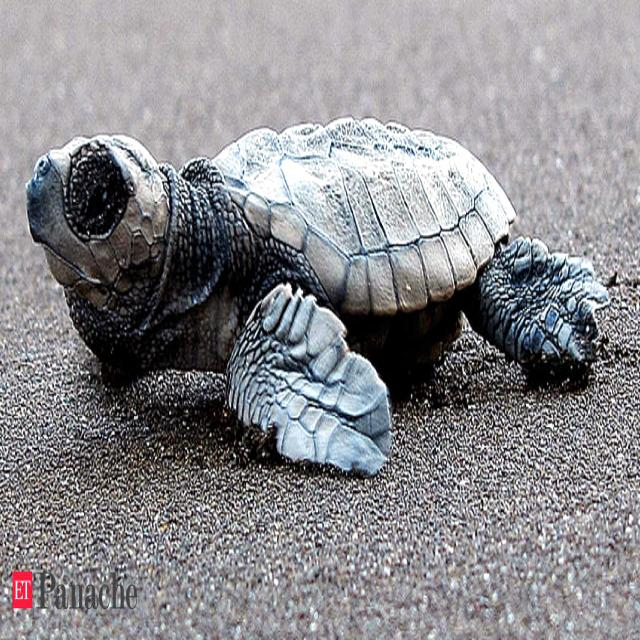Sea turtle: (21, 90, 615, 477)
